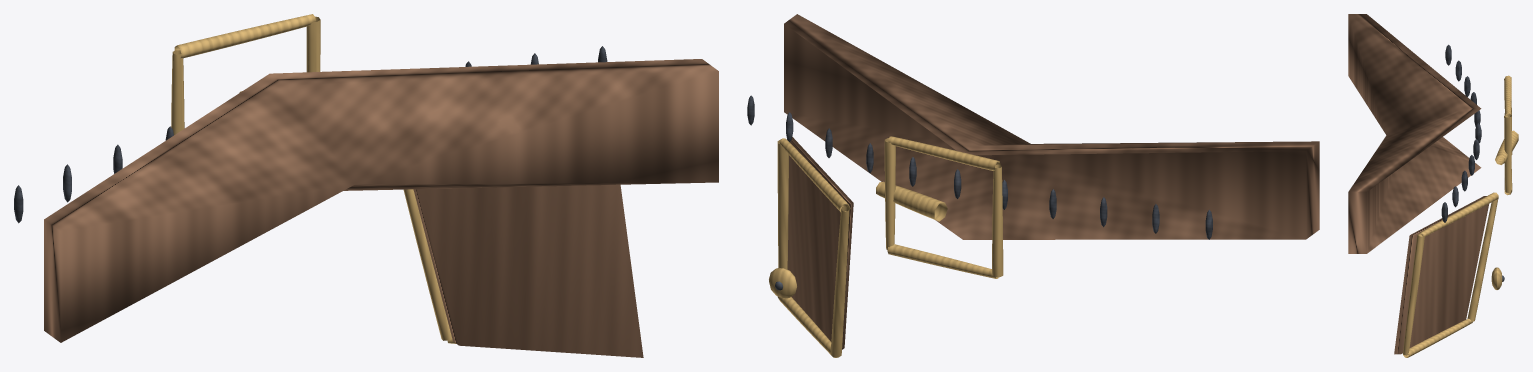
The model's file is outfit_belt.glb.
3 renders of one model, left to right at view 1: azimuth 30°, elevation 25°; view 2: azimuth 150°, elevation 25°; view 3: azimuth 270°, elevation 25°, orthographic. The views are drawn at different scales.
Visible parts, largest first — view 1: outfit_belt; view 2: outfit_belt; view 3: outfit_belt.
Part boxes in pixels (x1,y1,x2,y2): outfit_belt: [14, 14, 718, 357]; outfit_belt: [747, 14, 1319, 357]; outfit_belt: [1348, 14, 1518, 357].
Bounding box in the file's own units: 1.36 × 0.6553 × 0.5502.
Materials: 3 (3 with a texture image).
